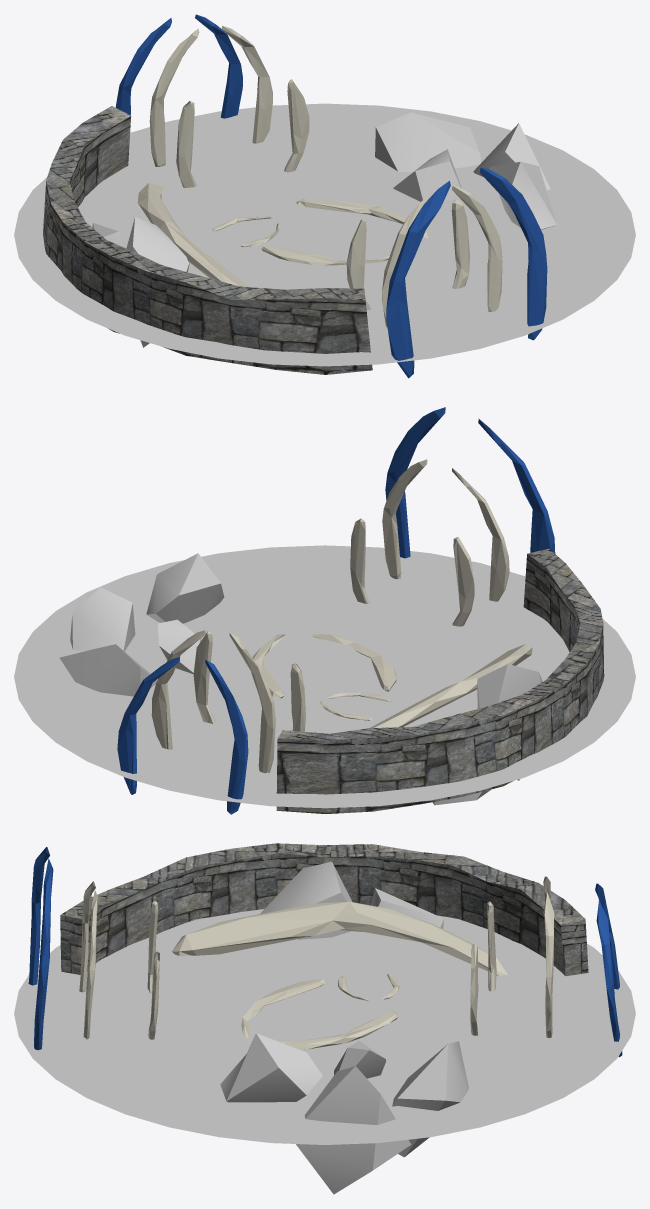
Rendered from Settlement.fbx.
3 views of the same model, one above another, from view 1: azimuth 30°, elevation 25°; view 2: azimuth 150°, elevation 25°; view 3: azimuth 270°, elevation 25° (orthographic).
Visible parts, largest first — view 1: Ground, Tube, Bones_2, Polygon_Reduction, Bones_6, Bones_1, Bones_3, Bones_5, Bones_7, Bones_4, Polygon_Reduction_2, Bones_7_2 (+3 smaller); view 2: Ground, Tube, Bones_2, Bones_1, Polygon_Reduction_2, Bones_3, Bones_6, Polygon_Reduction_1, Polygon_Reduction, Bones_4, Bones_7, Bones_5 (+3 smaller); view 3: Ground, Tube, Bones_7, Polygon_Reduction_1, Polygon_Reduction_2, Polygon_Reduction, Bones_2, Polygon_Reduction_3, Bones_7_2, Bones_3, Bones_1, Bones_5 (+4 smaller).
Part boxes in pixels (bbox=[...]): Ground: bbox=[14, 103, 635, 366]; Tube: bbox=[43, 106, 372, 374]; Bones_2: bbox=[386, 167, 547, 378]; Polygon_Reduction: bbox=[375, 112, 481, 172]; Bones_6: bbox=[149, 26, 272, 166]; Bones_1: bbox=[115, 14, 242, 118]; Bones_3: bbox=[382, 186, 502, 327]; Bones_5: bbox=[176, 79, 309, 187]; Bones_7: bbox=[137, 183, 249, 287]; Bones_4: bbox=[346, 199, 470, 310]; Polygon_Reduction_2: bbox=[489, 161, 556, 229]; Bones_7_2: bbox=[261, 198, 428, 265]; Ground: bbox=[14, 545, 635, 808]; Tube: bbox=[276, 548, 604, 813]; Bones_2: bbox=[385, 407, 555, 558]; Bones_1: bbox=[117, 657, 248, 814]; Polygon_Reduction_2: bbox=[146, 553, 224, 623]; Bones_3: bbox=[382, 459, 509, 601]; Bones_6: bbox=[151, 630, 275, 773]; Polygon_Reduction_1: bbox=[70, 587, 135, 651]; Polygon_Reduction: bbox=[59, 644, 156, 696]; Bones_4: bbox=[350, 518, 474, 626]; Bones_7: bbox=[370, 644, 532, 727]; Bones_5: bbox=[193, 631, 305, 731]; Ground: bbox=[14, 909, 635, 1144]; Tube: bbox=[60, 843, 588, 976]; Bones_7: bbox=[172, 901, 507, 976]; Polygon_Reduction_1: bbox=[296, 1066, 411, 1194]; Polygon_Reduction_2: bbox=[220, 1033, 322, 1102]; Polygon_Reduction: bbox=[392, 1041, 468, 1157]; Bones_2: bbox=[28, 847, 53, 1050]; Polygon_Reduction_3: bbox=[260, 861, 352, 939]; Bones_7_2: bbox=[241, 979, 398, 1049]; Bones_3: bbox=[79, 881, 98, 1039]; Bones_1: bbox=[595, 883, 622, 1057]; Bones_5: bbox=[470, 901, 496, 1035].
Size of the model in its own units: 274 by 115 by 274.
